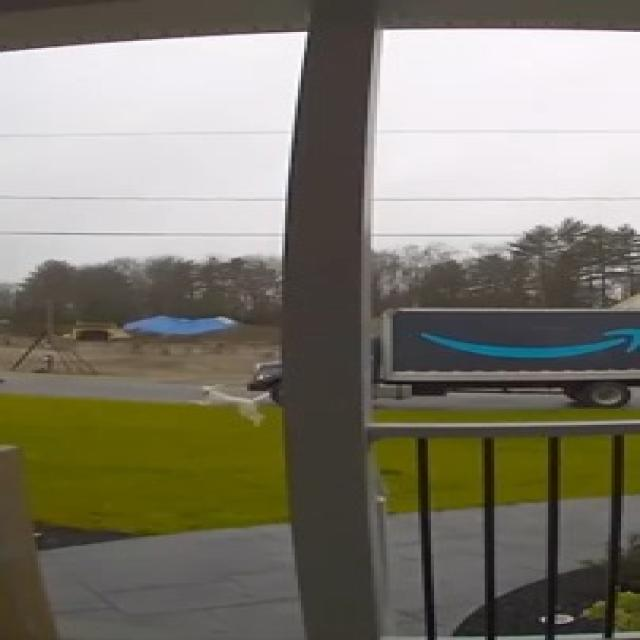dogs: (180, 376, 282, 433)
